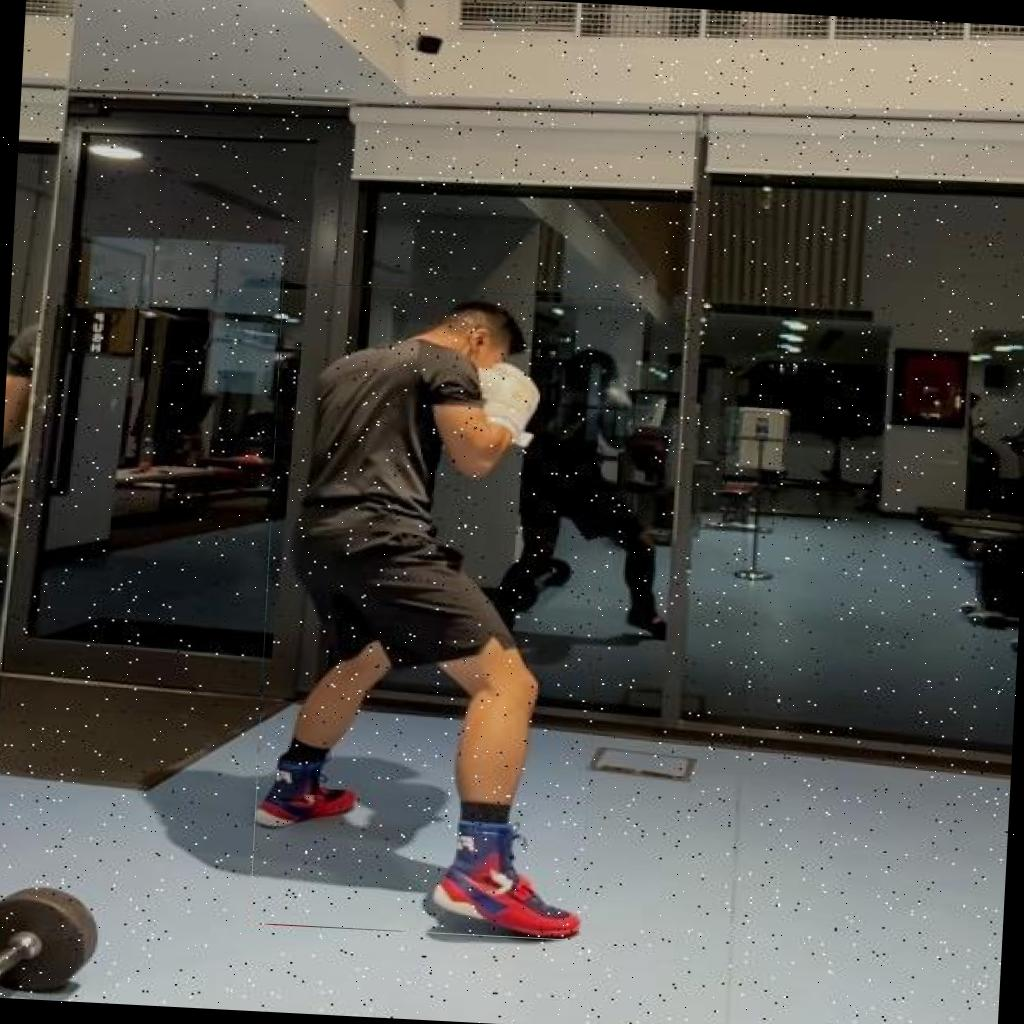no punch: (249, 282, 614, 940)
